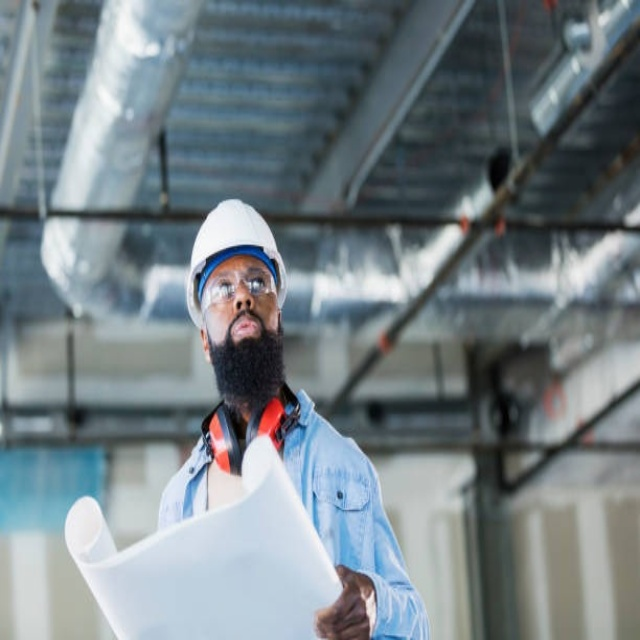Gafas: (201, 271, 280, 316)
Sin_guantes: (314, 562, 376, 640)
Sin_mascara: (229, 317, 260, 347)
